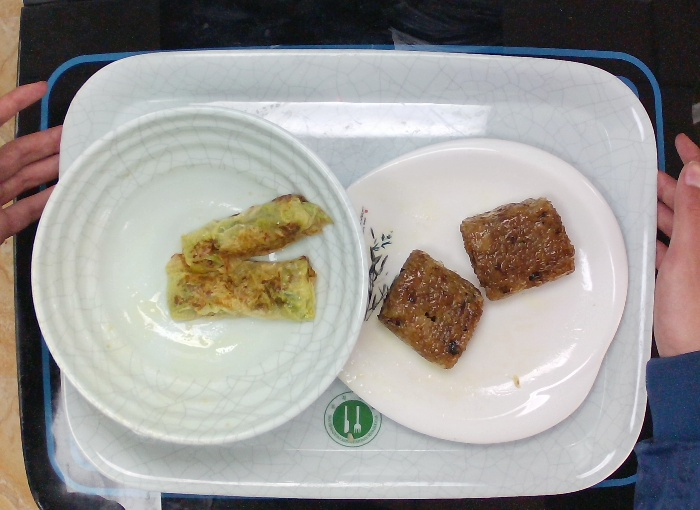JYsf-Da_Tang_Wan: (28, 100, 370, 448)
JYsf-Mian_Pan: (323, 132, 633, 452)
